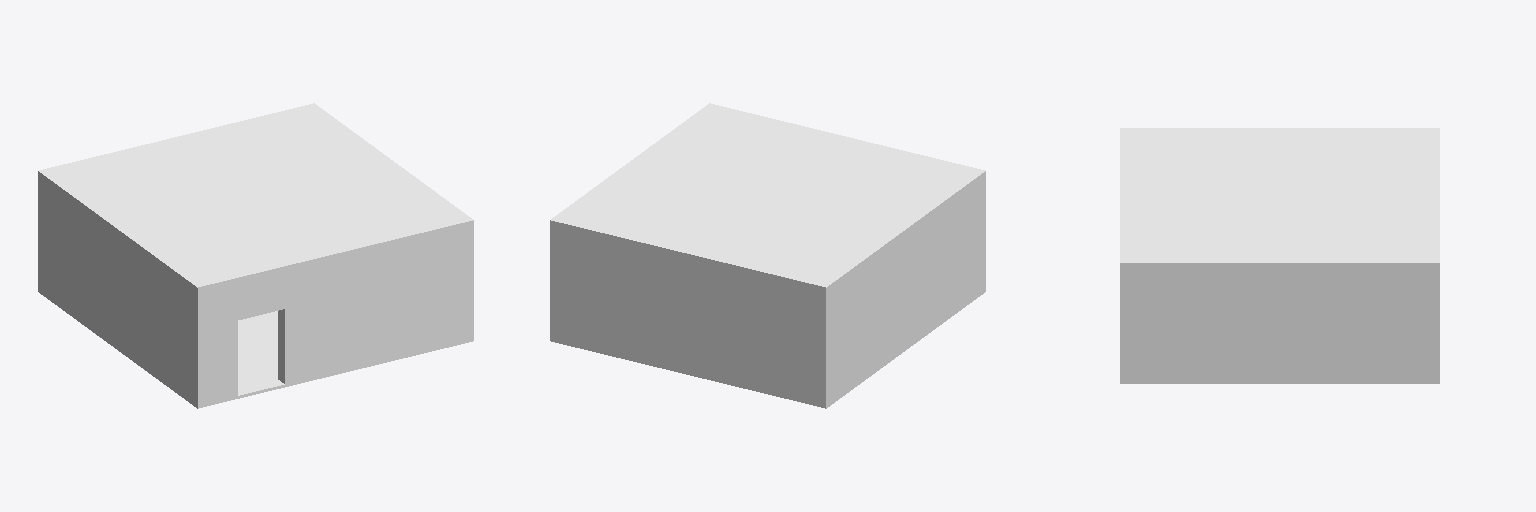
File: caSA.obj
The picture shows the model from 3 angles: view 1: azimuth 30°, elevation 25°; view 2: azimuth 150°, elevation 25°; view 3: azimuth 270°, elevation 25°; orthographic projection.
Visible parts, largest first — view 1: object 1; view 2: object 1; view 3: object 1.
Boxes of the visible parts, <box> form: object 1: <box>38,103,473,408</box>; object 1: <box>550,103,985,408</box>; object 1: <box>1120,128,1439,383</box>.
Bounding box in the file's own units: 19.6 × 8.2 × 19.6.